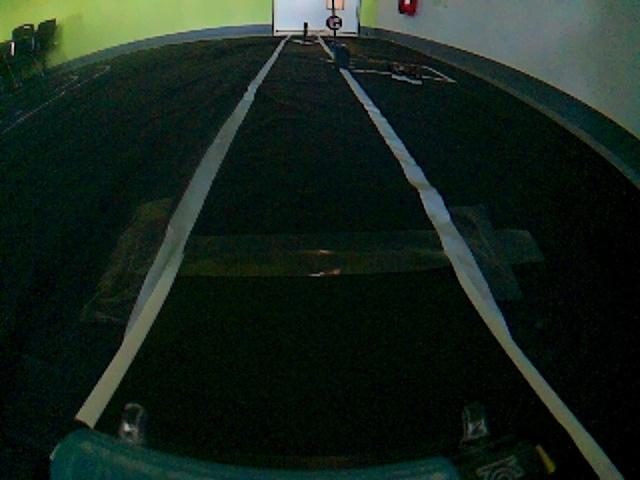go: (138, 67, 497, 294)
hill_down: (36, 299, 610, 475)
